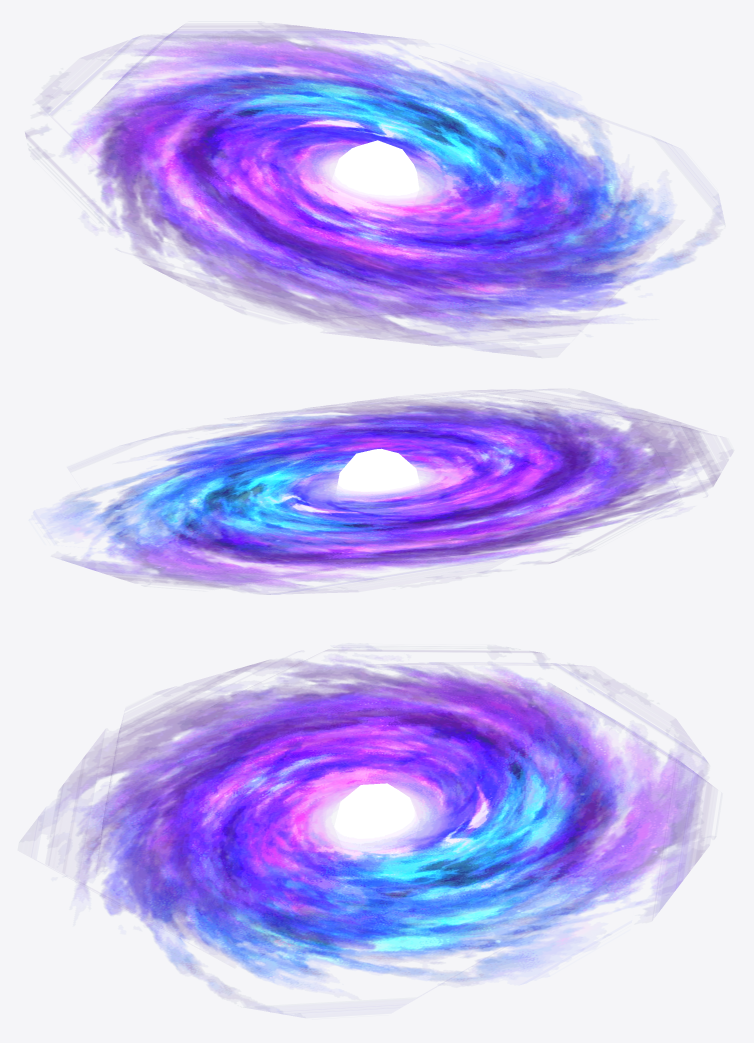
The model's file is track6Building2.glb.
The picture shows the model from 3 angles, top to bottom: view 1: azimuth 30°, elevation 25°; view 2: azimuth 150°, elevation 25°; view 3: azimuth 270°, elevation 25°; orthographic projection. The views are drawn at different scales.
Visible parts, largest first — view 1: Icosphere; view 2: Icosphere; view 3: Icosphere.
Part boxes in pixels (x1=…): Icosphere: x1=25, y1=25, x2=722, y2=352; Icosphere: x1=48, y1=390, x2=720, y2=594; Icosphere: x1=34, y1=646, x2=711, y2=1014.
Size of the model in its own units: 6.06 by 1.04 by 6.11.
Materials: 2 (1 with a texture image).
